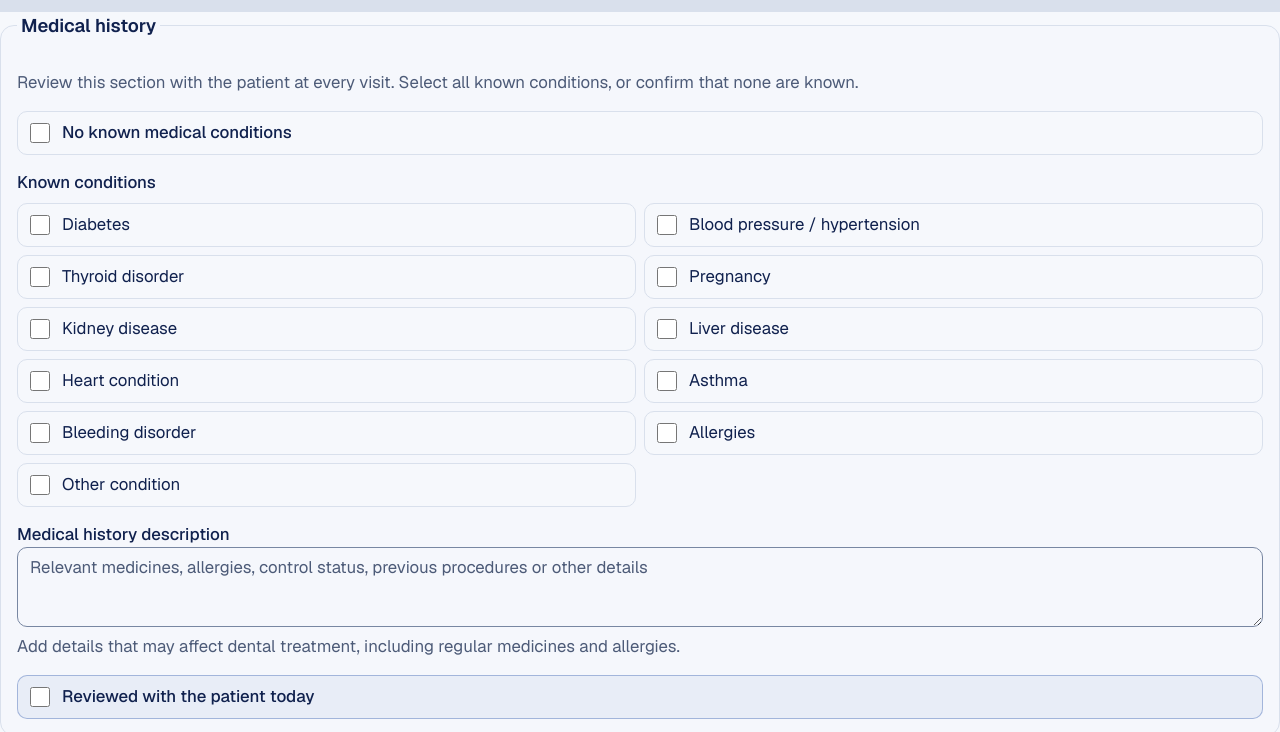
Scenario: MedicalHistoryFields › requires the general description when Other condition is selected
The width and height of the screenshot is (1280, 732).
Step 1. Click the checkbox labelled "Other condition" → (40, 485), box 30,475 -> 50,495
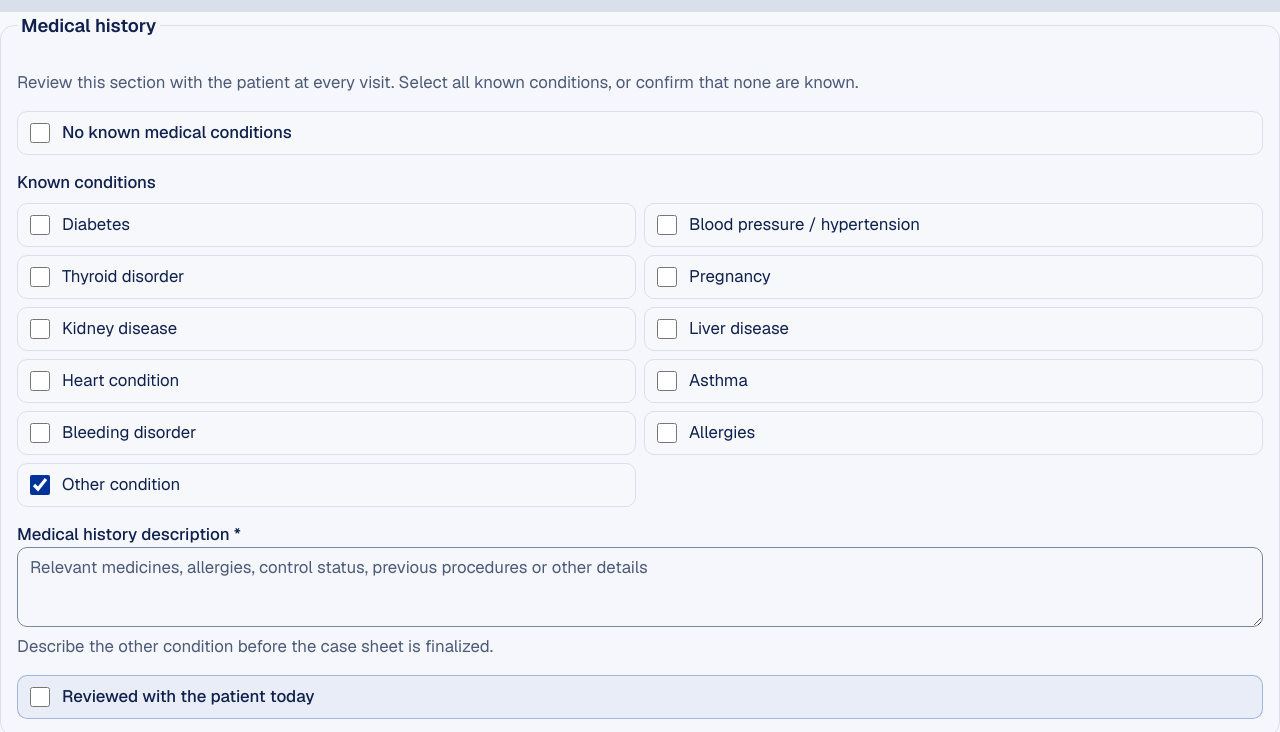
Expected: the text "Describe the other condition before the case sheet is finalized." is shown, 17,635 -> 493,657
